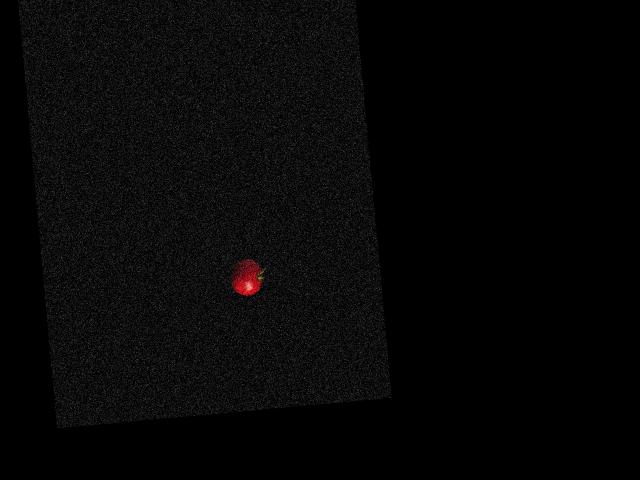tomato: (229, 257, 263, 296)
